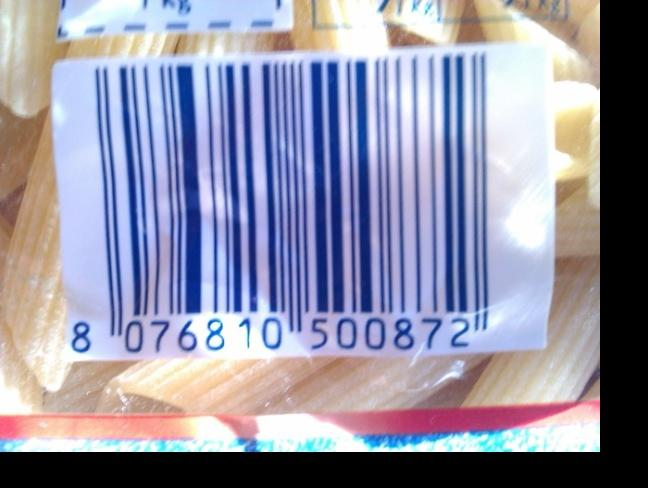Barcode: (63, 47, 499, 360)
